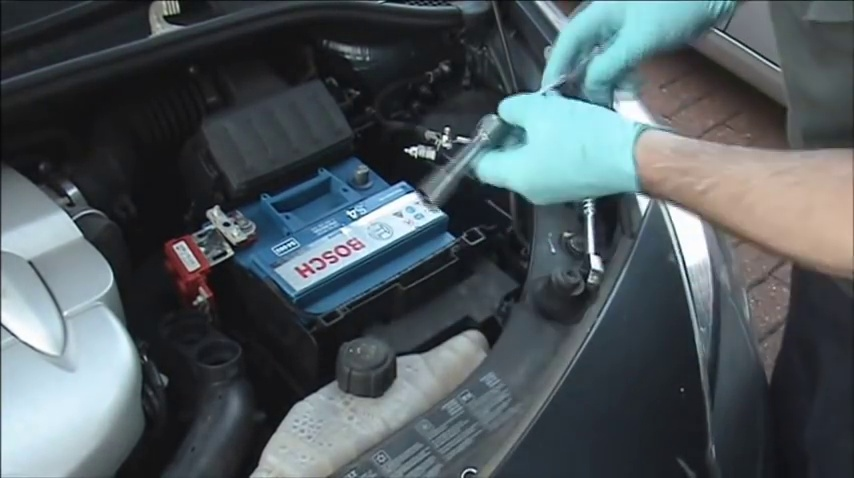battery: (172, 152, 451, 323)
neg_disconnected: (334, 150, 384, 199)
pos_connected: (178, 195, 263, 271)
